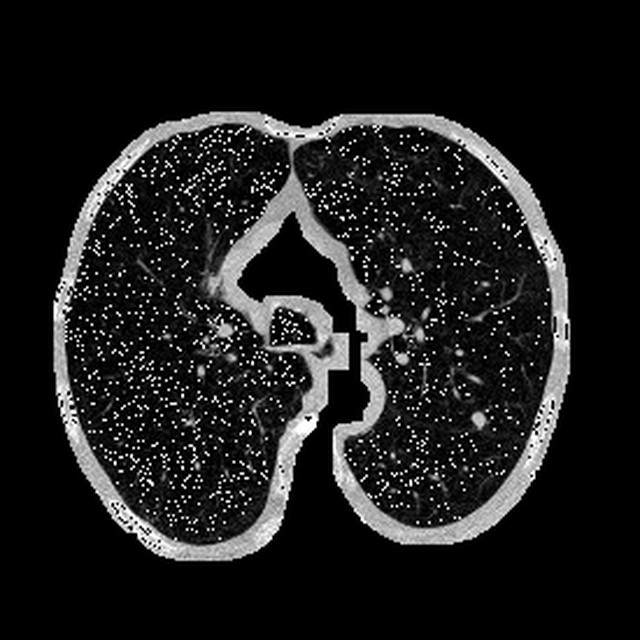PN: (468, 410, 486, 428)
